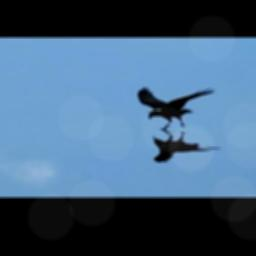Crow: (136, 86, 218, 131)
